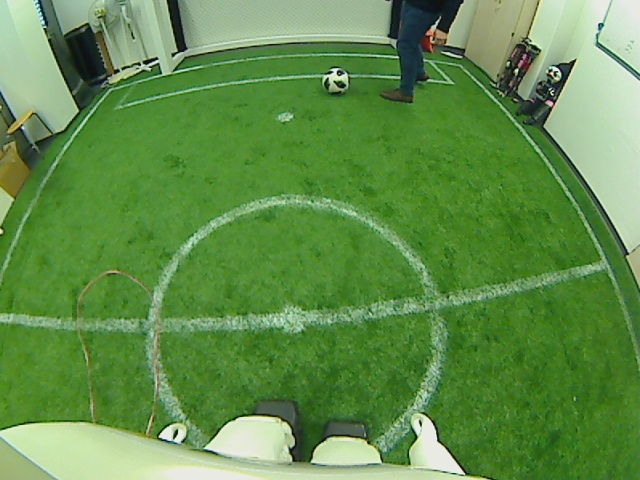ball: (321, 67, 350, 96)
